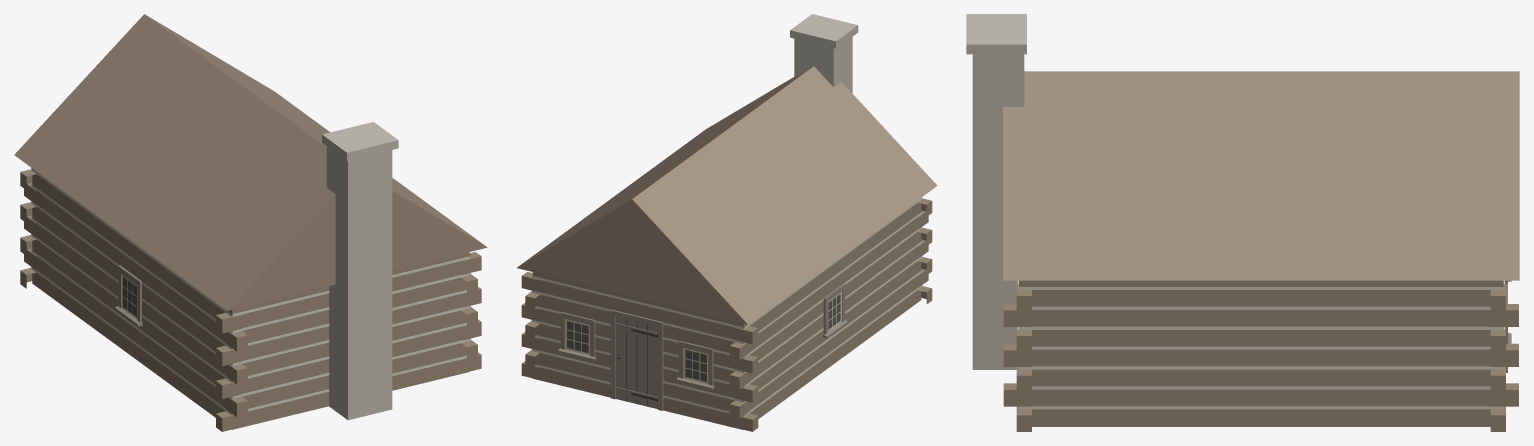
The model's file is recon_1835_south_d1_033__inferred_1835.glb.
The picture shows the model from 3 angles, left to right: view 1: azimuth 30°, elevation 25°; view 2: azimuth 150°, elevation 25°; view 3: azimuth 270°, elevation 25°; orthographic projection. The views are drawn at different scales.
Parts seen in each view (by area): view 1: recon_1835_south_d1_033__inferred_1835; view 2: recon_1835_south_d1_033__inferred_1835; view 3: recon_1835_south_d1_033__inferred_1835.
Boxes of the visible parts, bbox=[...] form: recon_1835_south_d1_033__inferred_1835: bbox=[14, 14, 487, 431]; recon_1835_south_d1_033__inferred_1835: bbox=[517, 14, 937, 431]; recon_1835_south_d1_033__inferred_1835: bbox=[966, 14, 1519, 431].
Bounding box in the file's own units: 5.65 × 5.6 × 8.58.
